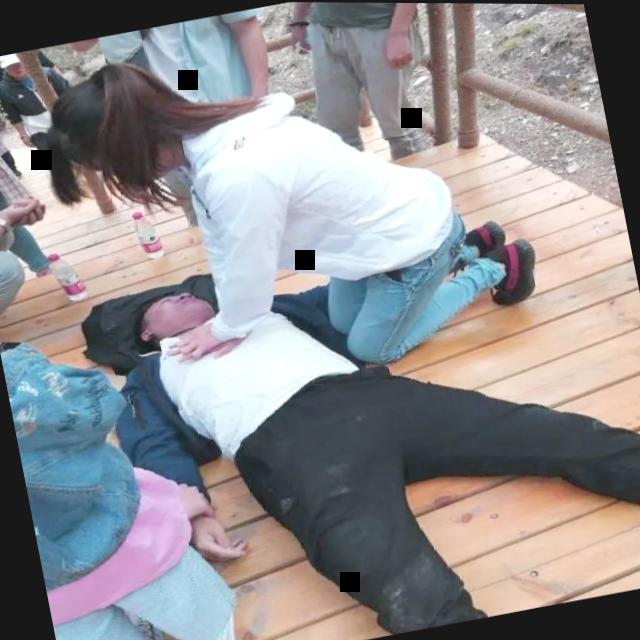Fall-Detected: (64, 158, 640, 640)
